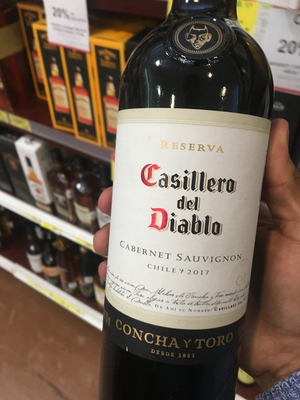casillero del diablo cabernet sauvignon: (96, 8, 279, 400)
